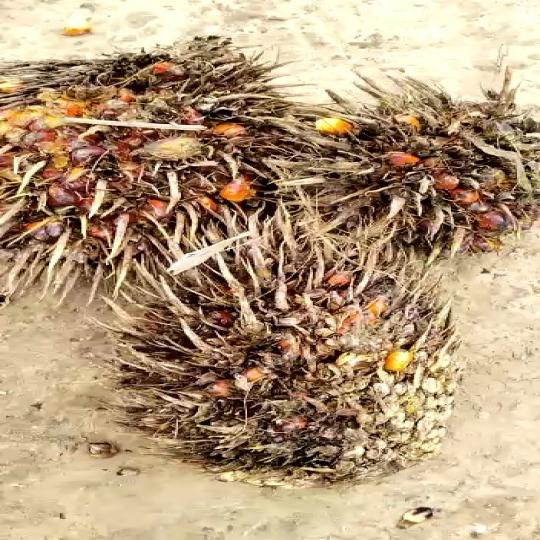terlalu masak: (96, 238, 468, 490), (0, 43, 318, 290), (277, 72, 540, 250)
